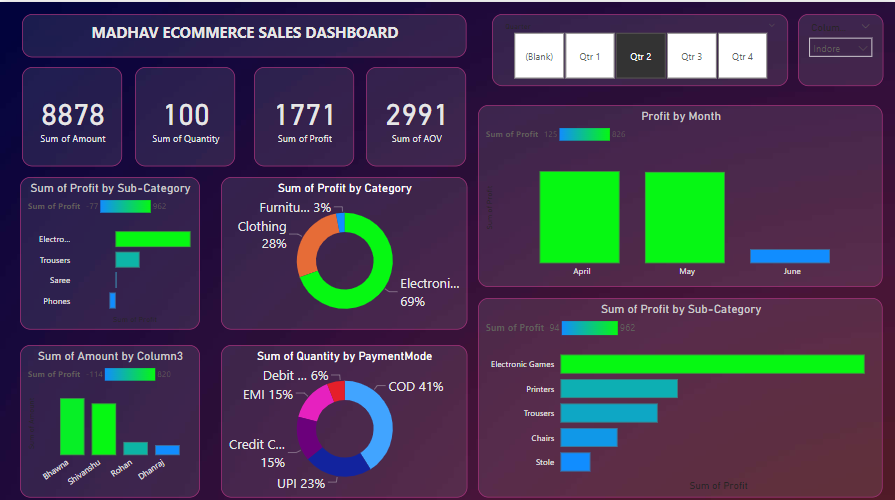

The page's visual inventory and layout, read from the dashboard file:
{"tool":"powerbi","page":{"name":"Page 1","canvas":[1280,720],"ordinal":0},"visuals":[{"type":"textbox","box":[31.7,16.7,635,61.7],"z":0},{"type":"columnChart","title":"Profit by Month","fields":{"Y":["Details.Profit"],"Category":["Orders.Column2.Variation.Date Hierarchy.Month"]},"box":[683.3,146.7,578.3,260],"z":1000},{"type":"barChart","fields":{"Category":["Details.Sub-Category"],"Y":["Details.Profit"]},"box":[683.3,423.3,578.3,285],"z":2000},{"type":"donutChart","fields":{"Category":["Details.PaymentMode"],"Y":["Details.Quantity"]},"box":[315,490,351.7,218.3],"z":3000},{"type":"donutChart","fields":{"Category":["Details.Category"],"Y":["Details.Profit"]},"box":[315,250,351.7,218.3],"z":4000},{"type":"card","fields":{"Values":["Details.Amount"]},"box":[31.7,93.3,143.3,141.7],"z":5000},{"type":"card","fields":{"Values":["Details.Quantity"]},"box":[193.3,93.3,143.3,141.7],"z":6000},{"type":"card","fields":{"Values":["Details.Profit"]},"box":[363.3,93.3,143.3,141.7],"z":7000},{"type":"card","fields":{"Values":["Details.AOV"]},"box":[523.3,93.3,143.3,141.7],"z":8000},{"type":"barChart","fields":{"Category":["Details.Sub-Category"],"Y":["Details.Profit"]},"box":[28.3,250,256.7,218.3],"z":9000},{"type":"columnChart","fields":{"Category":["Orders.Column3"],"Y":["Details.Amount"]},"box":[28.3,490,256.7,218.3],"z":10000},{"type":"slicer","fields":{"Values":["Orders.Column2.Variation.Date Hierarchy.Quarter"]},"box":[703.3,16.7,423.3,103.3],"z":10001},{"type":"slicer","fields":{"Values":["Orders.Column5"]},"box":[1140,16.7,121.7,103.3],"z":10002}]}

Visuals, with their boxes in screenshot pixels (x1, y1, x2, y2), scaled from the page's 1280x720 canvas onto the 895x500 screenshot:
textbox: l=22, t=12, r=466, b=54
"Profit by Month" columnChart: l=478, t=102, r=882, b=282
barChart - Details.Sub-Category x Details.Profit: l=478, t=294, r=882, b=492
donutChart - Details.PaymentMode x Details.Quantity: l=220, t=340, r=466, b=492
donutChart - Details.Category x Details.Profit: l=220, t=174, r=466, b=325
card - Details.Amount: l=22, t=65, r=122, b=163
card - Details.Quantity: l=135, t=65, r=235, b=163
card - Details.Profit: l=254, t=65, r=354, b=163
card - Details.AOV: l=366, t=65, r=466, b=163
barChart - Details.Sub-Category x Details.Profit: l=20, t=174, r=199, b=325
columnChart - Orders.Column3 x Details.Amount: l=20, t=340, r=199, b=492
slicer - Orders.Column2.Variation.Date Hierarchy.Quarter: l=492, t=12, r=788, b=83
slicer - Orders.Column5: l=797, t=12, r=882, b=83
